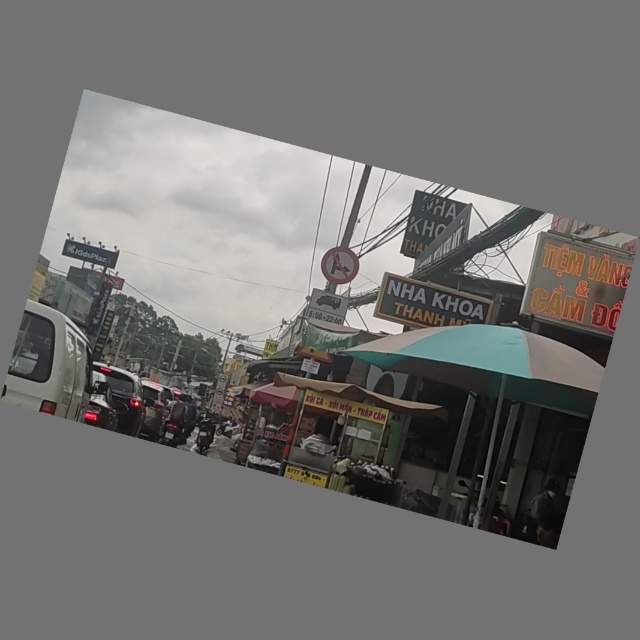P.139: (318, 245, 363, 288)
S.505a*Xe tai: (305, 289, 349, 329)
